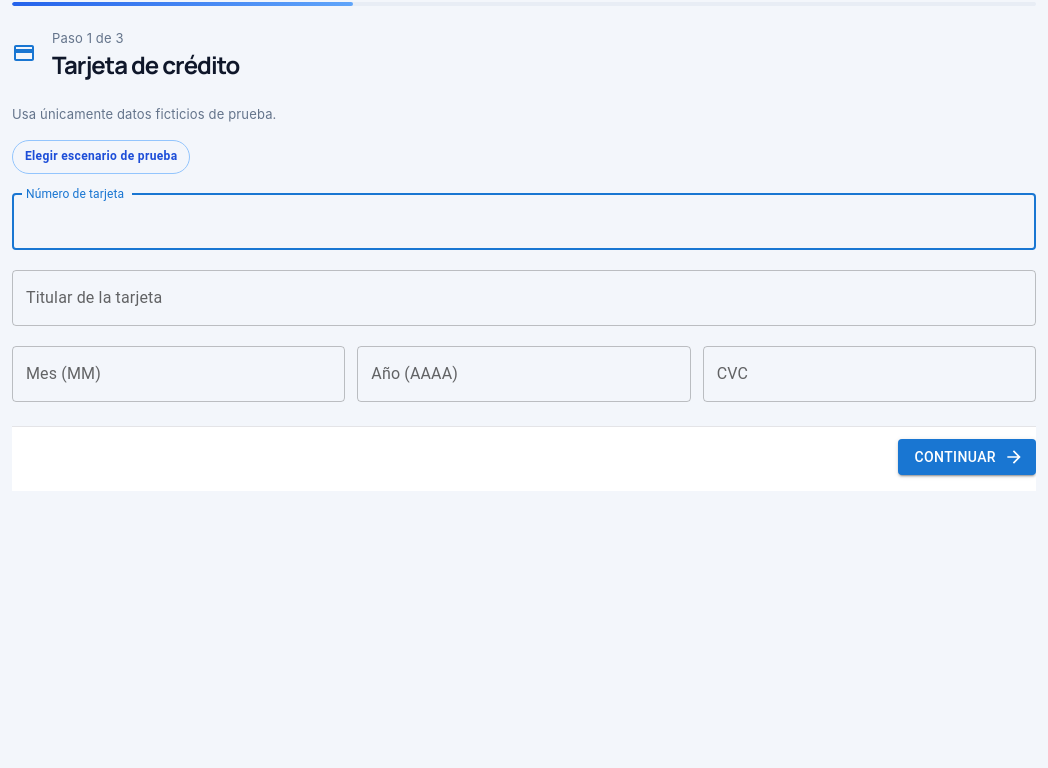
ofrece tarjetas Sandbox solo por elección y las conserva fuera de Redux y storage
The width and height of the screenshot is (1048, 768).
Expected: the text "Compra aprobada" is not shown
Click the button "Elegir escenario de prueba".
click(101, 157)  # box [12,140,190,174]
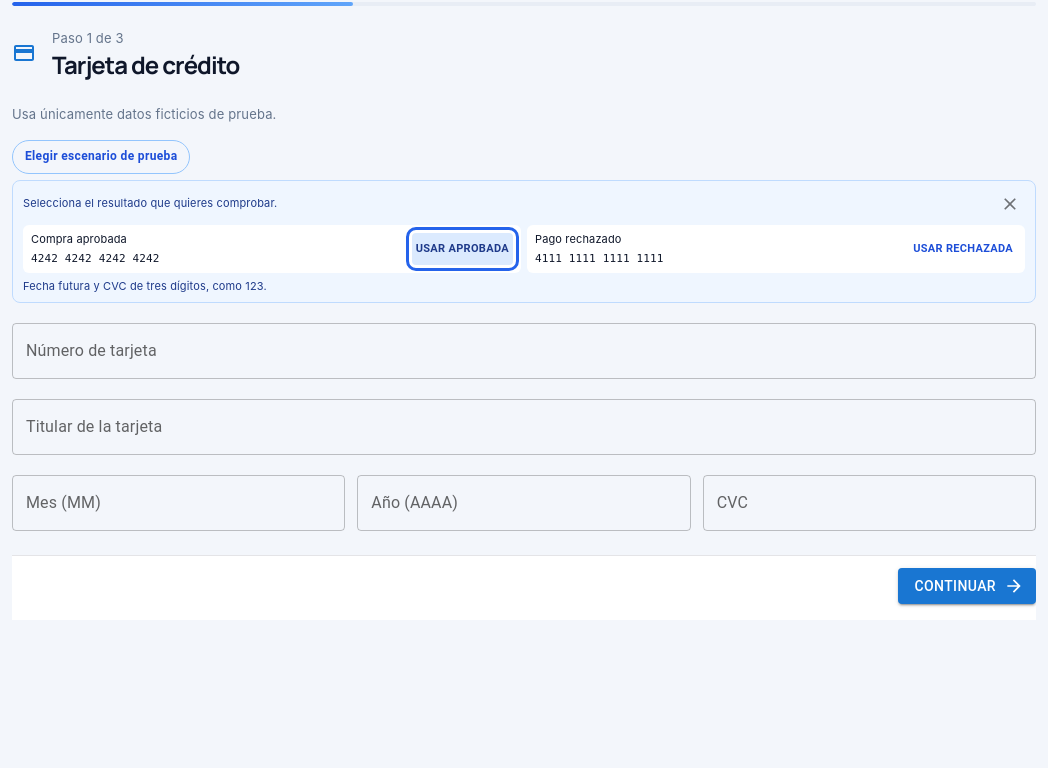
Expected: the field labelled "Número de tarjeta" is empty, [12,323,1036,379]
Result: the text "Selecciona el resultado que quieres comprobar." is shown at [23,196,277,211]
Click the button "Usar aprobada".
click(462, 249)  # box [412,233,513,265]
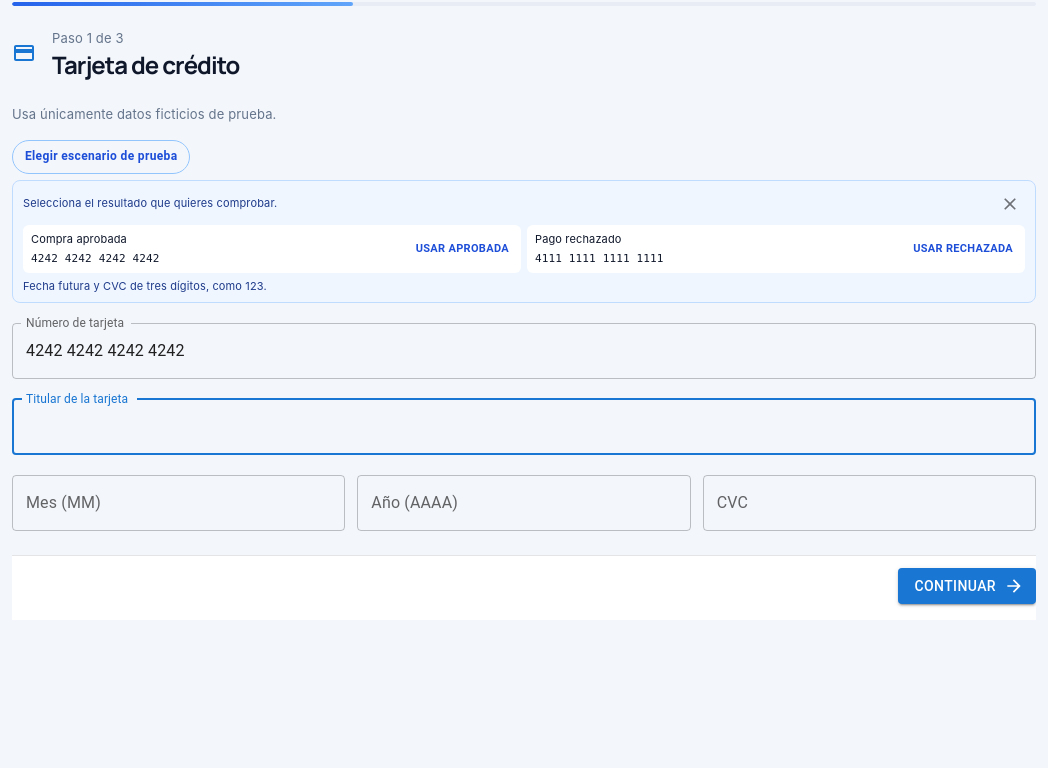
Expected: the field labelled "Titular de la tarjeta" is empty, [12,399,1036,455]
Result: the field labelled "Número de tarjeta" holds "4242 4242 4242 4242" at [12,323,1036,379]
Click the button "Usar rechazada".
click(963, 249)  # box [909,233,1017,265]
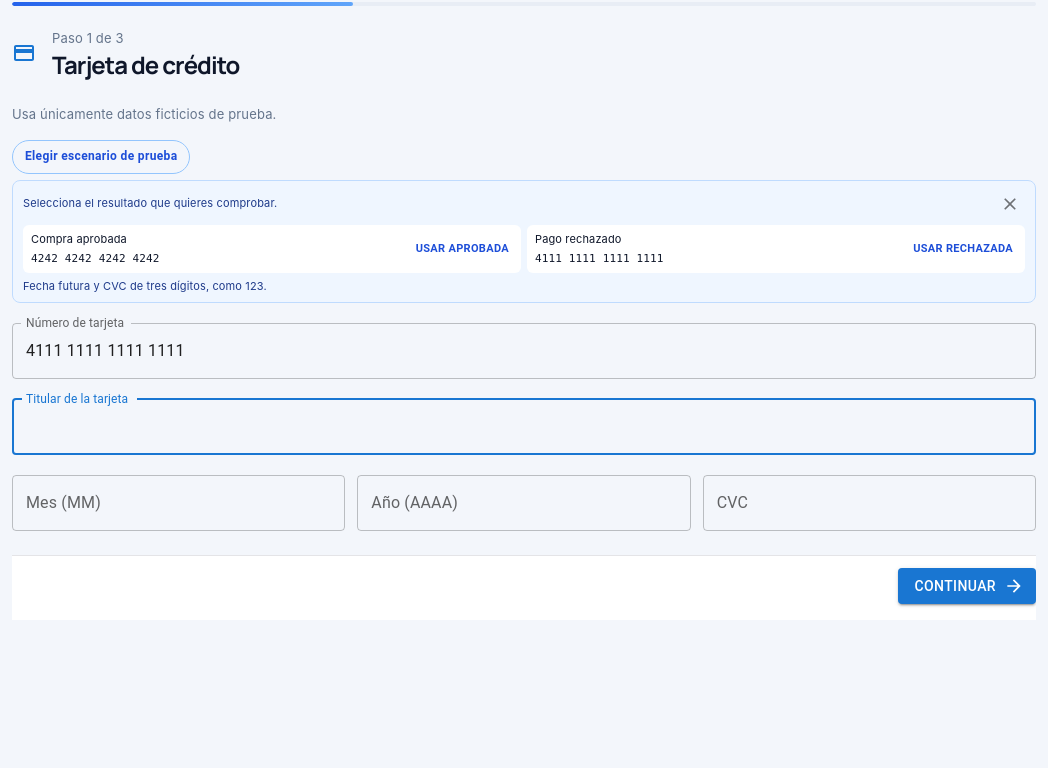
Result: the field labelled "Número de tarjeta" holds "4111 1111 1111 1111" at [12,323,1036,379]
Click the button named "Cerrar ayuda".
click(1010, 204)  # box [995,189,1025,219]
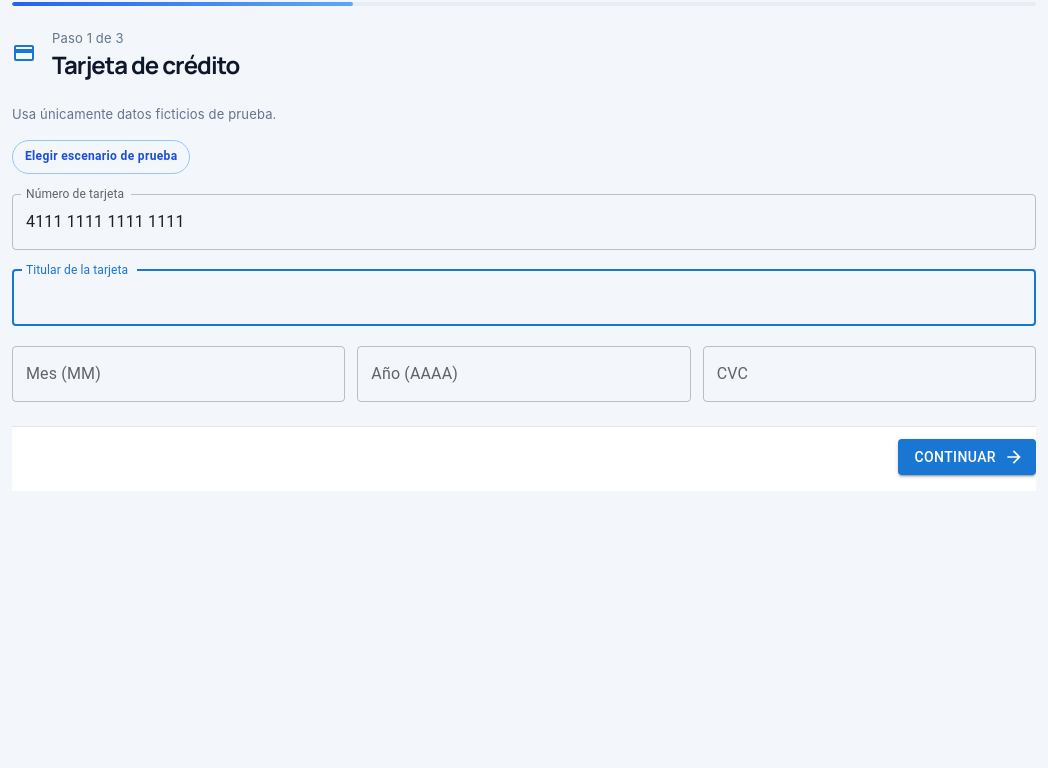
Result: the text "Compra aprobada" is gone
